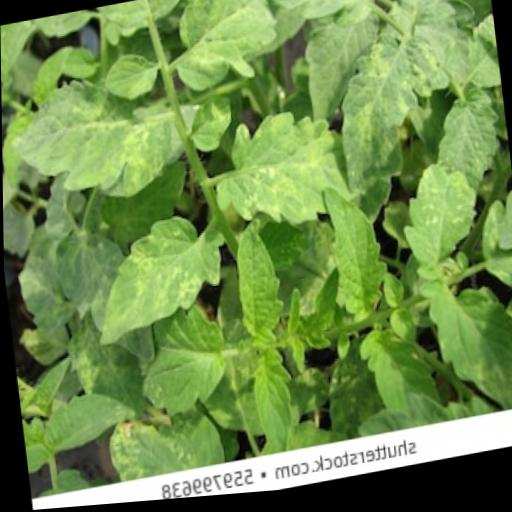Healthy: (224, 218, 286, 352), (241, 347, 297, 460), (103, 52, 161, 109)
Mosaic Virus: (7, 64, 189, 214), (82, 210, 233, 353), (209, 106, 351, 244), (414, 271, 512, 425), (330, 48, 424, 202), (290, 0, 391, 140), (126, 309, 236, 428), (395, 157, 486, 299), (313, 183, 389, 334), (166, 0, 283, 97), (41, 379, 135, 460)
